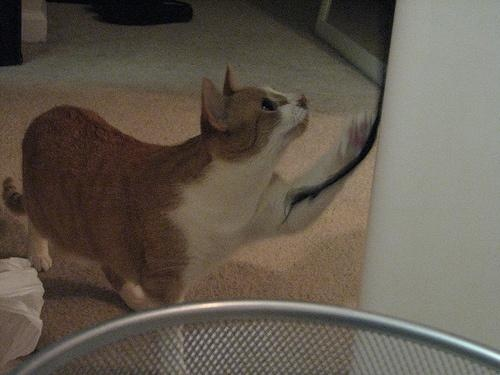cat: (3, 62, 378, 375)
